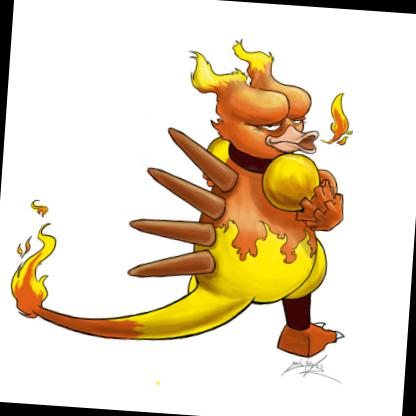Magmar: (1, 1, 416, 392)
